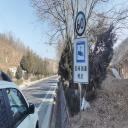speed_limit_60: (75, 10, 86, 36)
